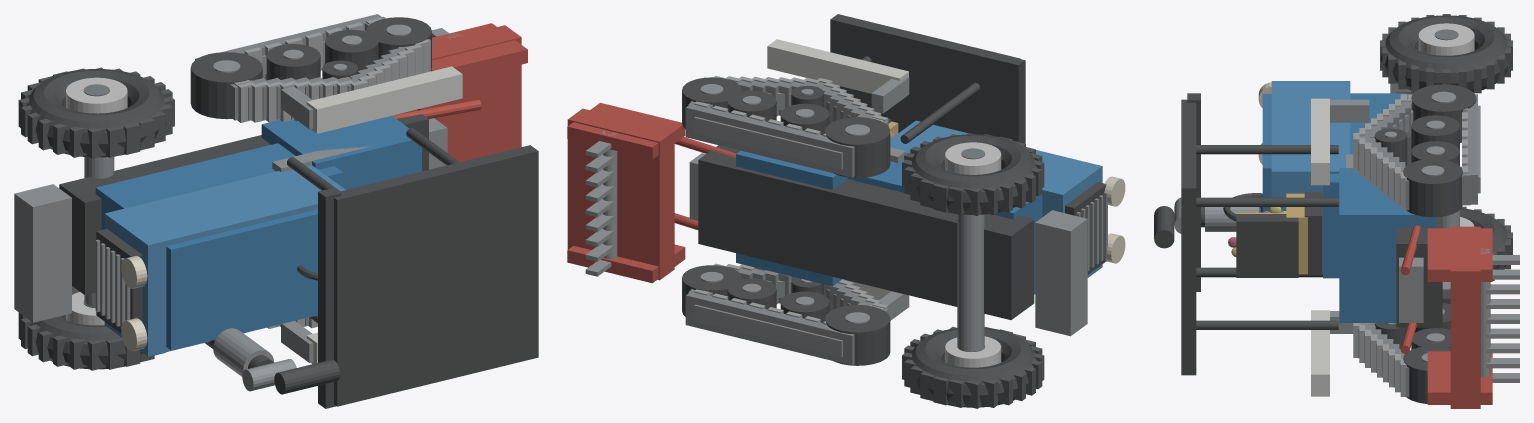
File: Ford5000_EXITA_BLUE.glb
The picture shows the model from 3 angles, left to right: view 1: azimuth 30°, elevation 25°; view 2: azimuth 150°, elevation 25°; view 3: azimuth 270°, elevation 25°; orthographic projection. The views are drawn at different scales.
Parts seen in each view (by area): view 1: world; view 2: world; view 3: world.
Part boxes in pixels (x1=…): world: x1=14, y1=14, x2=538, y2=408; world: x1=567, y1=14, x2=1125, y2=408; world: x1=1154, y1=14, x2=1519, y2=408.
Size of the model in its own units: 4.02 by 1.9 by 2.7.
